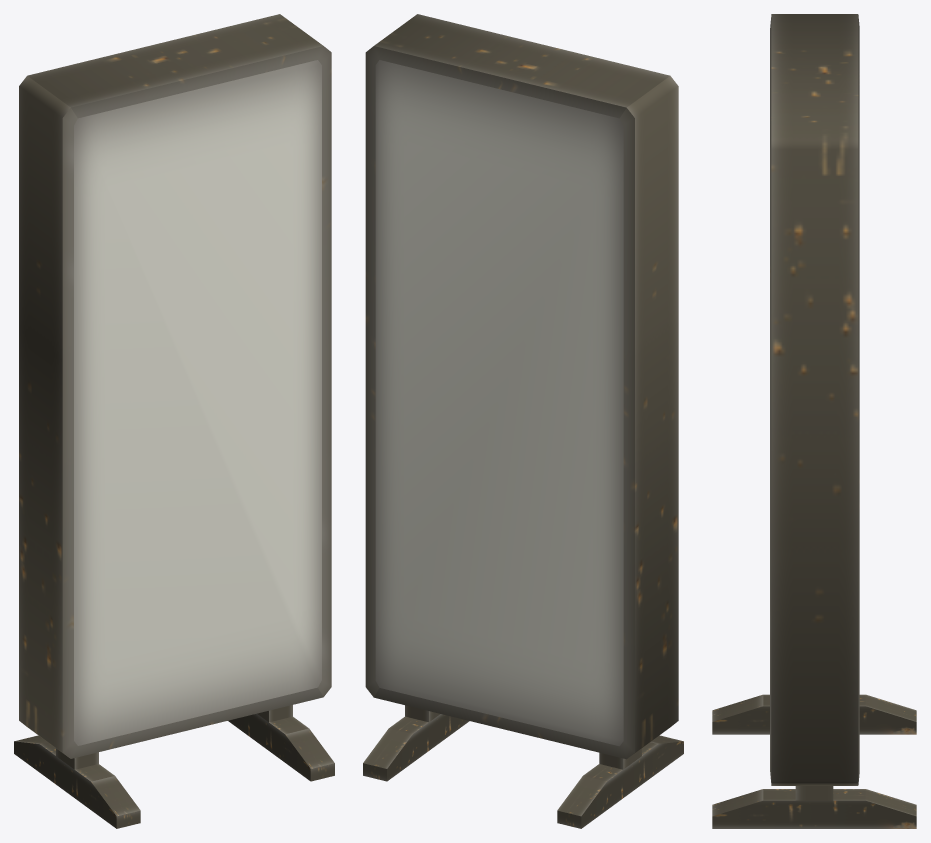
The model's file is menustand02a.fbx.
3 renders of one model, left to right at view 1: azimuth 30°, elevation 25°; view 2: azimuth 150°, elevation 25°; view 3: azimuth 270°, elevation 25°, orthographic.
Parts seen in each view (by area): view 1: menustand02a; view 2: menustand02a; view 3: menustand02a.
Part boxes in pixels (x1,y1,x2,y2): menustand02a: (14, 14, 334, 828); menustand02a: (363, 14, 683, 828); menustand02a: (712, 14, 916, 828).
Size of the model in its own units: 45.6 by 114 by 30.12.
